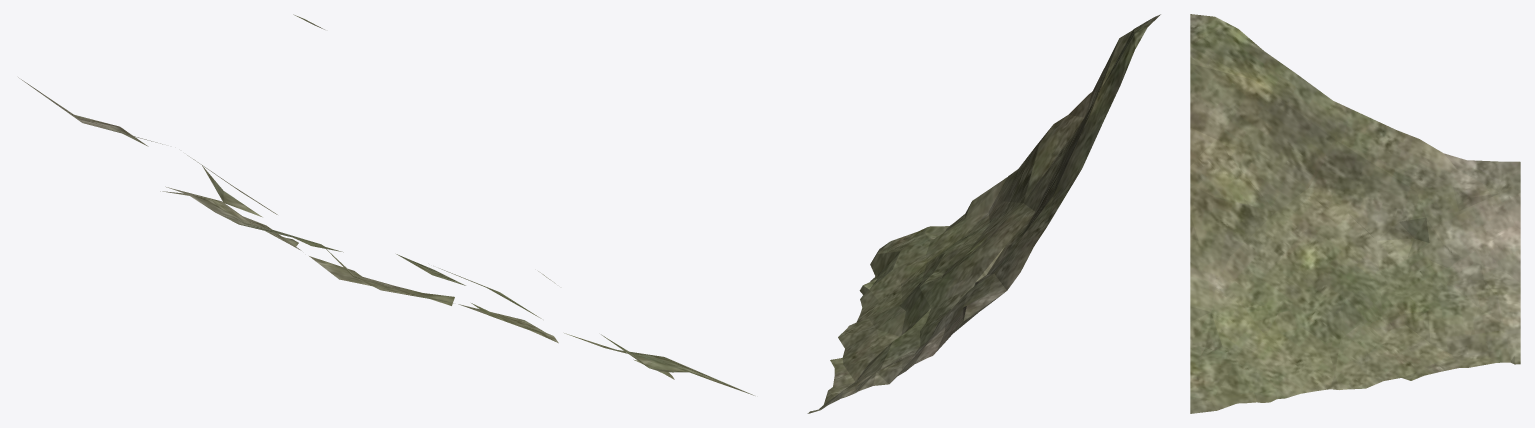
3 views of the same model, side by side, from view 1: azimuth 30°, elevation 25°; view 2: azimuth 150°, elevation 25°; view 3: azimuth 270°, elevation 25° (orthographic). The views are drawn at different scales.
Size of the model in its own units: 2.63 by 2.72 by 2.95.
Materials: 2 (2 with a texture image).
